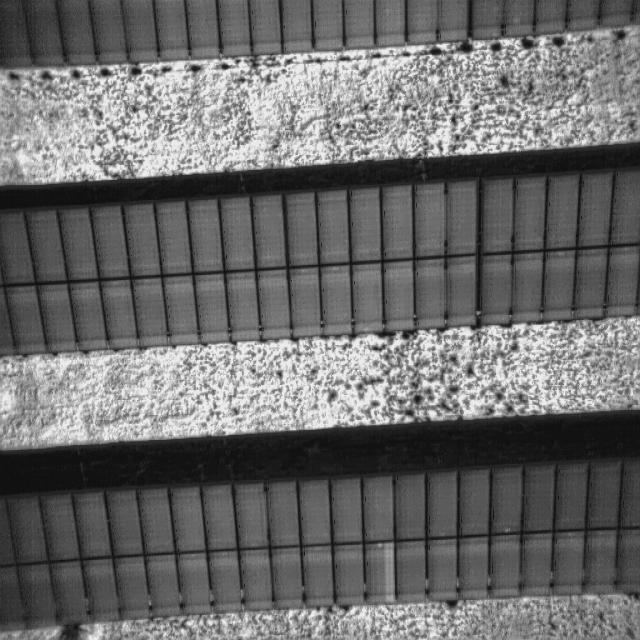diode: (366, 546, 396, 606)
